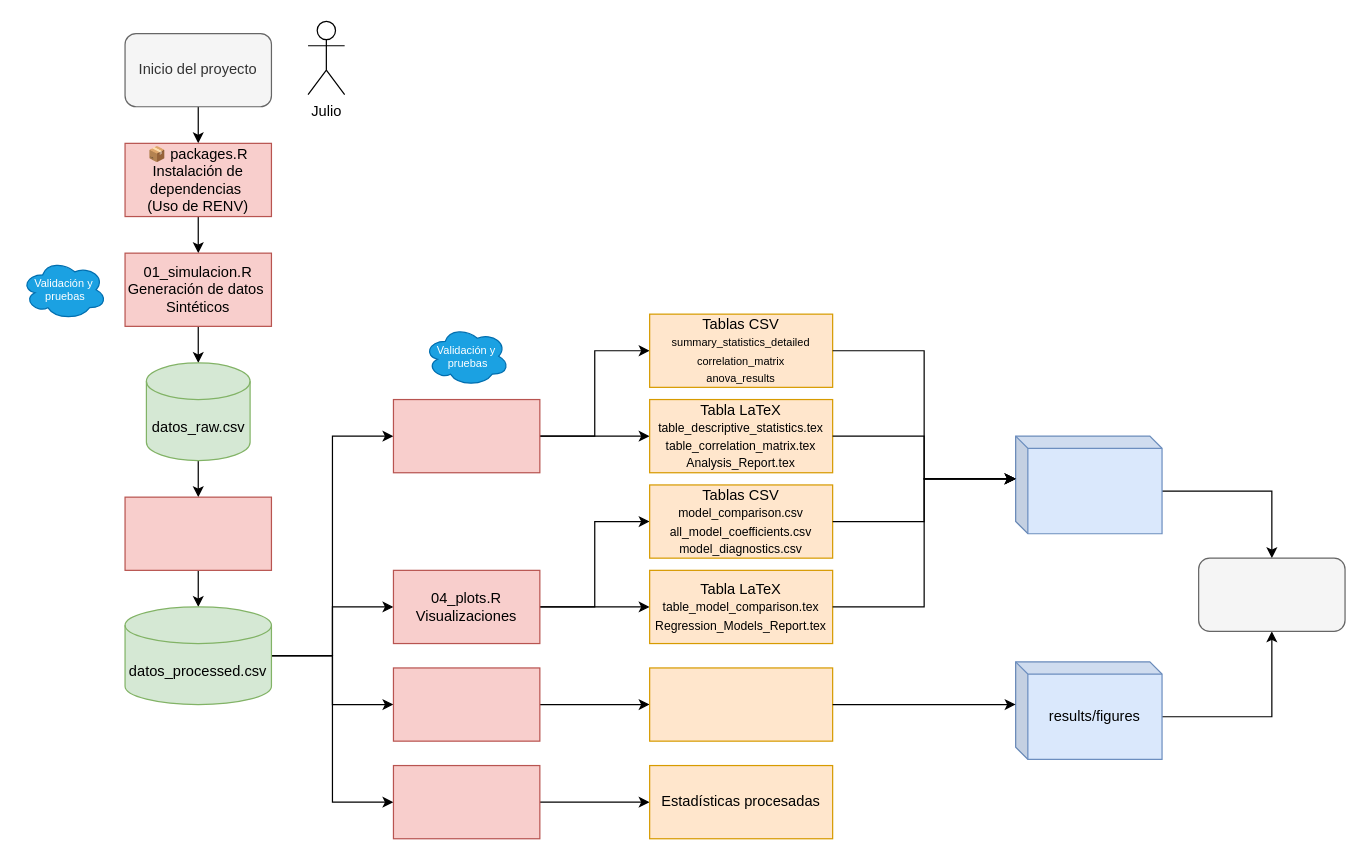
The diagram is 1366 pixels wide and 860 high, and some of its shapes have lost their labels. The box of each missing label's shape, as (x1, y1, x2, y2) in pixels:
02_procesamiento.R Limpieza y transformación: (124, 496, 271, 570)
03_analisis.R análisis estadístico detallado: (392, 398, 540, 473)
05_modelado.R Modelos de regresión: (392, 667, 540, 741)
06_estadisticas.R Estadiscas adicionales: (392, 764, 540, 839)
Gráficos PNG histogram_z.png scatter_x_y.png: (648, 667, 833, 741)
Proyecto completado: (1197, 557, 1345, 631)
results/tables: (1014, 435, 1162, 534)
